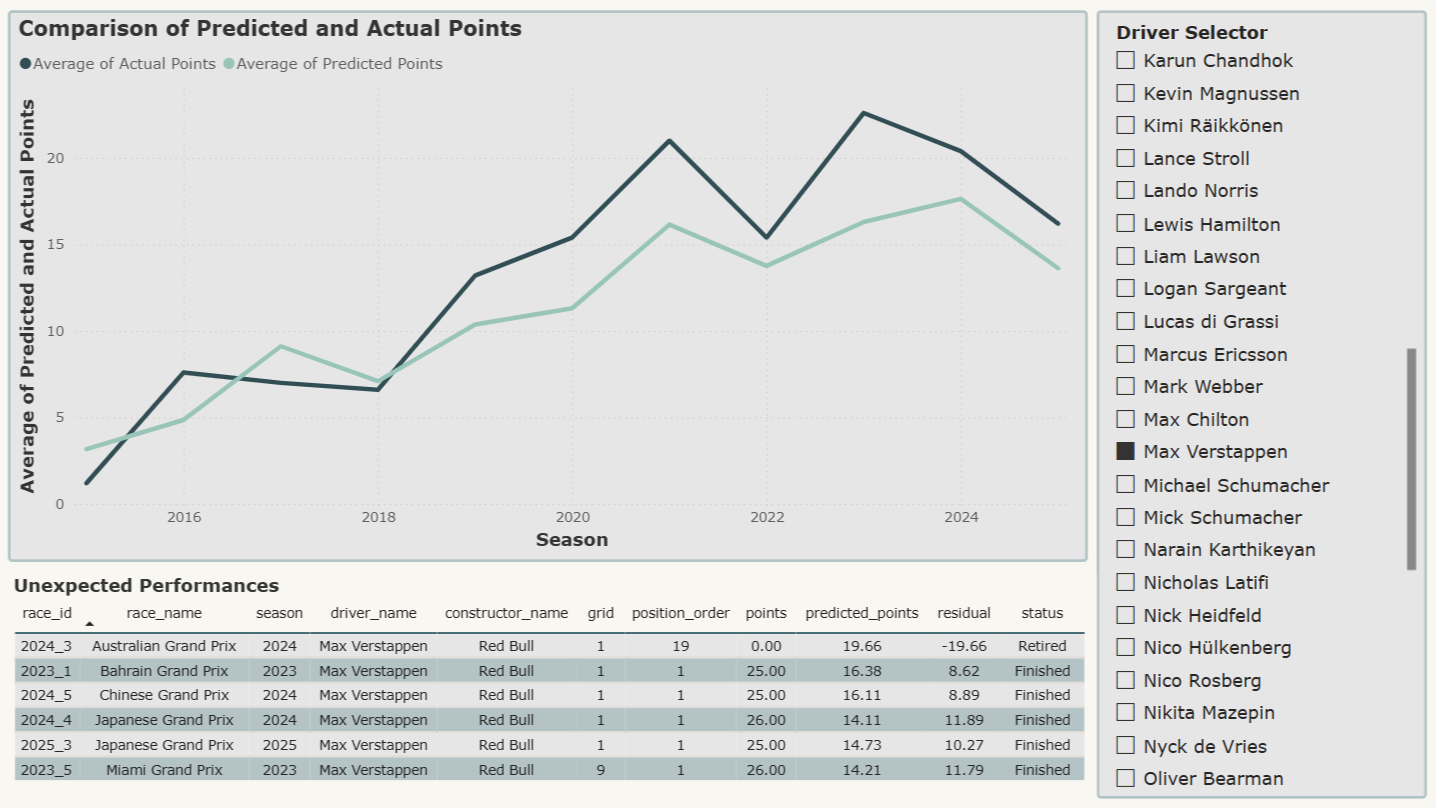

This screenshot's page, from the dashboard's own definition file:
{"tool":"powerbi","page":{"name":"Driver Deep Dive","canvas":[1280,720],"ordinal":0},"visuals":[{"type":"lineChart","fields":{"Category":["model_results.date.Variation.Date Hierarchy.Year","model_results.date.Variation.Date Hierarchy.Quarter","model_results.date.Variation.Date Hierarchy.Month","model_results.date.Variation.Date Hierarchy.Day"],"Y":["Avg(model_results.points)","Avg(model_results.predicted_points)"]},"box":[10,0,535,350],"z":0},{"type":"slicer","fields":{"Values":["model_results.driver_name"]},"box":[11,350,301,250],"z":1000},{"type":"tableEx","fields":{"Values":["model_results.race_id","model_results.race_name","model_results.season","model_results.driver_name","model_results.constructor_name","model_results.grid","model_results.position_order","model_results.points","model_results.predicted_points","model_results.residual","model_results.status"]},"box":[312,384,968,216],"z":2000},{"type":"actionButton","box":[0,0,100,40],"z":3000}]}

Visuals, with their boxes in screenshot pixels (x1, y1, x2, y2), scaled from the page's 1280x720 canvas onto the 1436x808 screenshot:
lineChart - model_results.date.Variation.Date Hierarchy.Year x model_results.date.Variation.Date Hierarchy.Quarter: locate(11, 0, 611, 393)
slicer - model_results.driver_name: locate(12, 393, 350, 673)
tableEx - model_results.race_id x model_results.race_name: locate(350, 431, 1435, 673)
actionButton: locate(0, 0, 112, 45)
